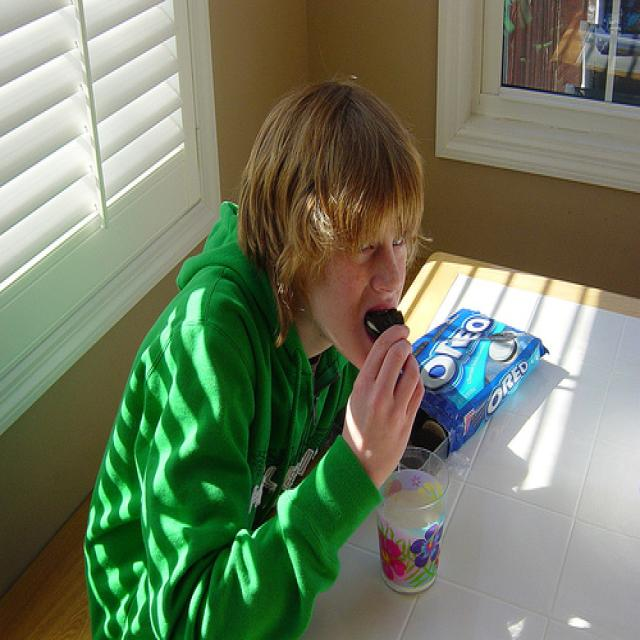diningtable: (262, 249, 640, 640)
person: (83, 70, 427, 640)
